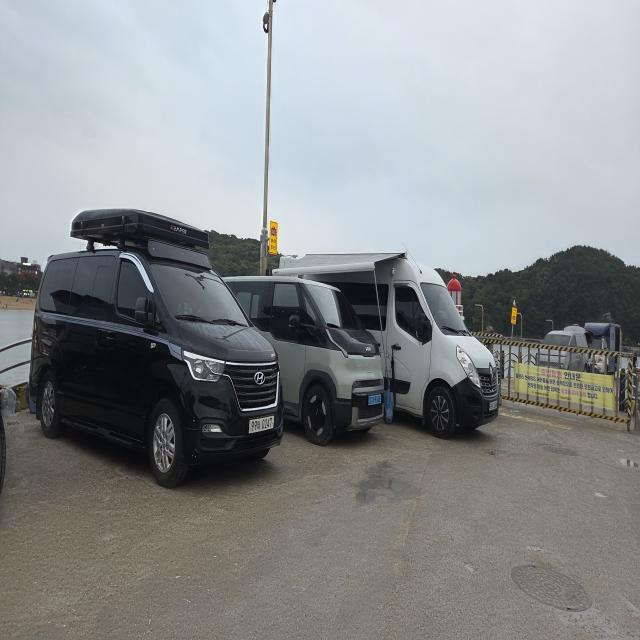car: (27, 188, 293, 502), (281, 233, 512, 458), (213, 256, 395, 454)
